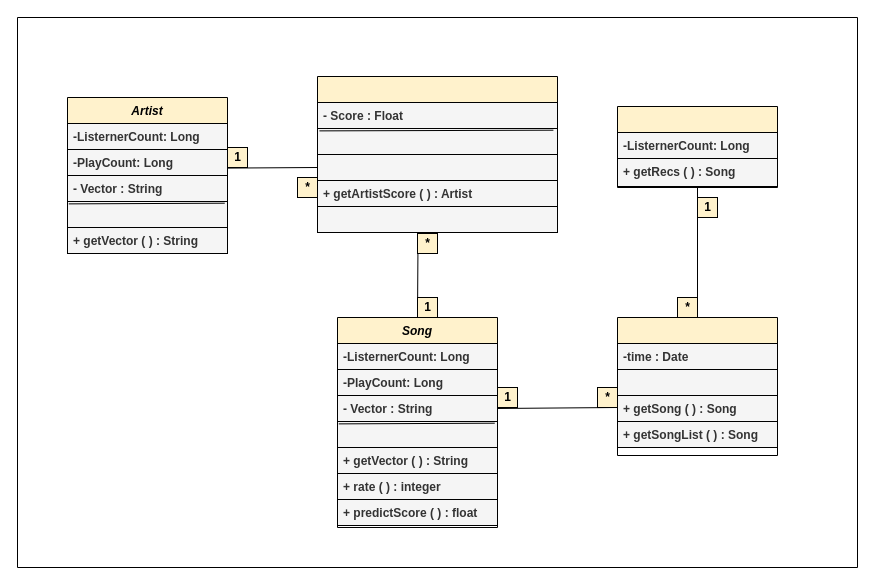
The diagram is 876 pixels wide and 586 high, and some of its shapes have lost their labels. The shapes that lost their labels are listed below. From the top down, each one's box as (x1, y1, x2, y2) in pixels, then its label:
(316, 128, 558, 154): + getScore ( ) : Song
(316, 76, 558, 232): Similarity
(616, 106, 778, 188): User
(316, 154, 558, 180): + calculateScore ( ) : Song
(66, 200, 228, 228): + getSimilar ( ) : Artist
(316, 206, 558, 232): + calculateArtistScore ( ) : Artist
(616, 368, 778, 396): - rating : integer
(616, 316, 778, 456): Recs
(336, 420, 498, 448): + getSimilar ( ) : Song
